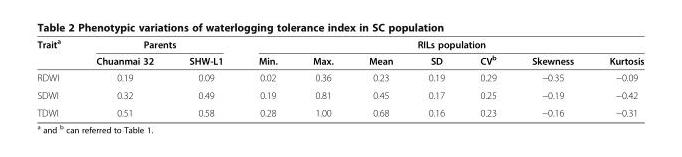table: (36, 36, 643, 118)
table column: (77, 36, 170, 118), (513, 36, 590, 118), (170, 36, 240, 118), (350, 36, 410, 118), (294, 36, 350, 118), (240, 36, 294, 118), (590, 36, 643, 118), (461, 36, 513, 118), (410, 36, 461, 118), (36, 36, 77, 118)
table column header: (36, 36, 643, 68)
table row: (36, 85, 643, 103), (36, 51, 643, 68), (36, 68, 643, 85), (36, 36, 643, 51), (36, 103, 643, 118)
table spanning cell: (240, 36, 643, 51), (77, 36, 240, 51), (36, 36, 77, 68)
